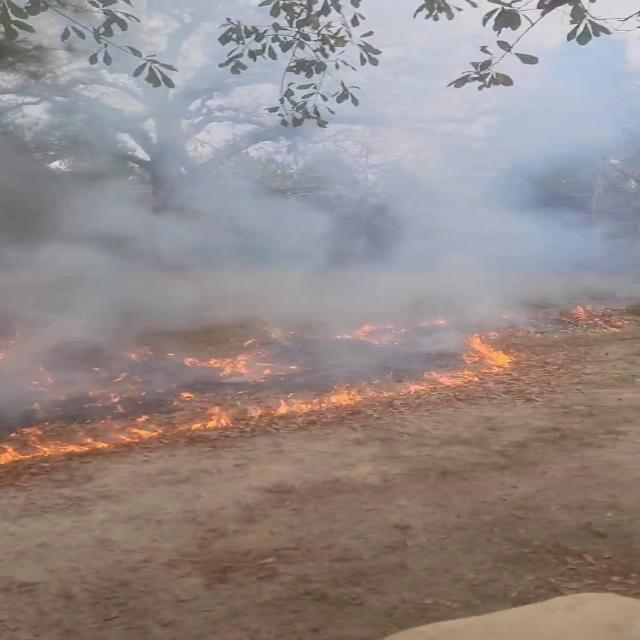Fire: (38, 413, 198, 460), (254, 379, 414, 424), (448, 324, 524, 386), (175, 343, 262, 383)
Smoke: (1, 4, 638, 412)
